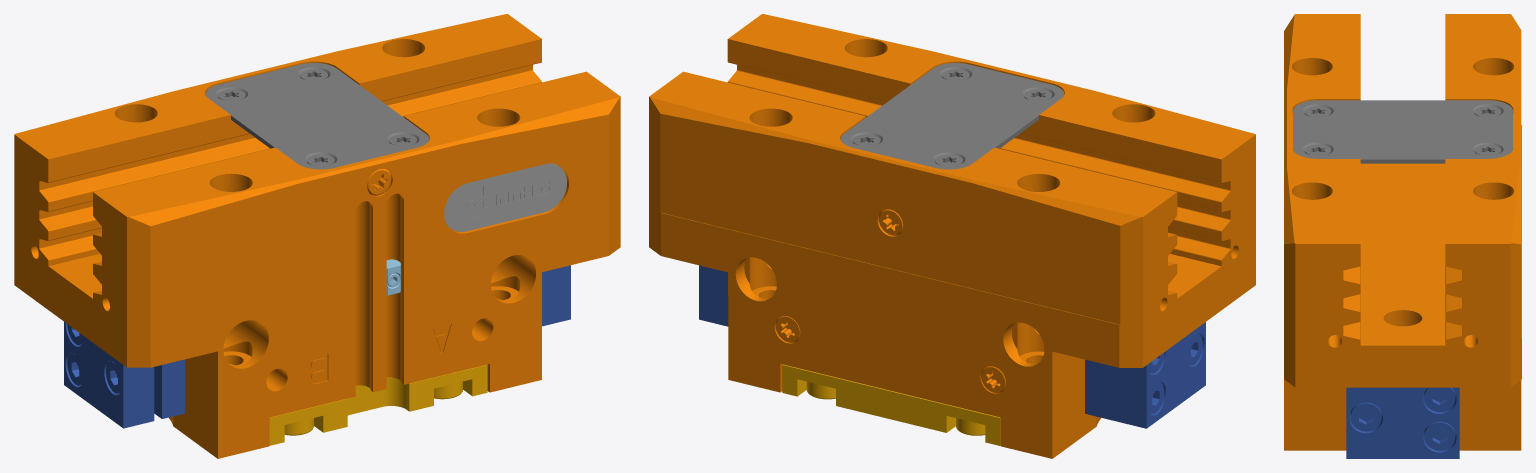
Rendered from SCHUNK_PGN-plus-P_80-2_mainbody.dae.
The picture shows the model from 3 angles, left to right: view 1: azimuth 30°, elevation 25°; view 2: azimuth 150°, elevation 25°; view 3: azimuth 270°, elevation 25°; orthographic projection. The views are drawn at different scales.
Visible parts, largest first — view 1: main_body, top_plate, side_inlets (×2), backing_plate, name_plate; view 2: main_body, top_plate, side_inlets (×2), backing_plate; view 3: main_body, top_plate, side_inlets.
Boxes of the visible parts, x1,y1,x2,y2 form: main_body: [14, 14, 620, 458]; top_plate: [205, 63, 429, 169]; side_inlets (×2): [64, 265, 570, 428]; backing_plate: [269, 364, 487, 445]; name_plate: [444, 163, 566, 231]; main_body: [649, 14, 1255, 458]; top_plate: [840, 63, 1064, 169]; side_inlets (×2): [699, 265, 1205, 428]; backing_plate: [782, 364, 1000, 445]; main_body: [1284, 14, 1521, 450]; top_plate: [1293, 100, 1512, 163]; side_inlets: [1346, 387, 1459, 458].
Size of the model in its own units: 0.096 by 0.042 by 0.048.
